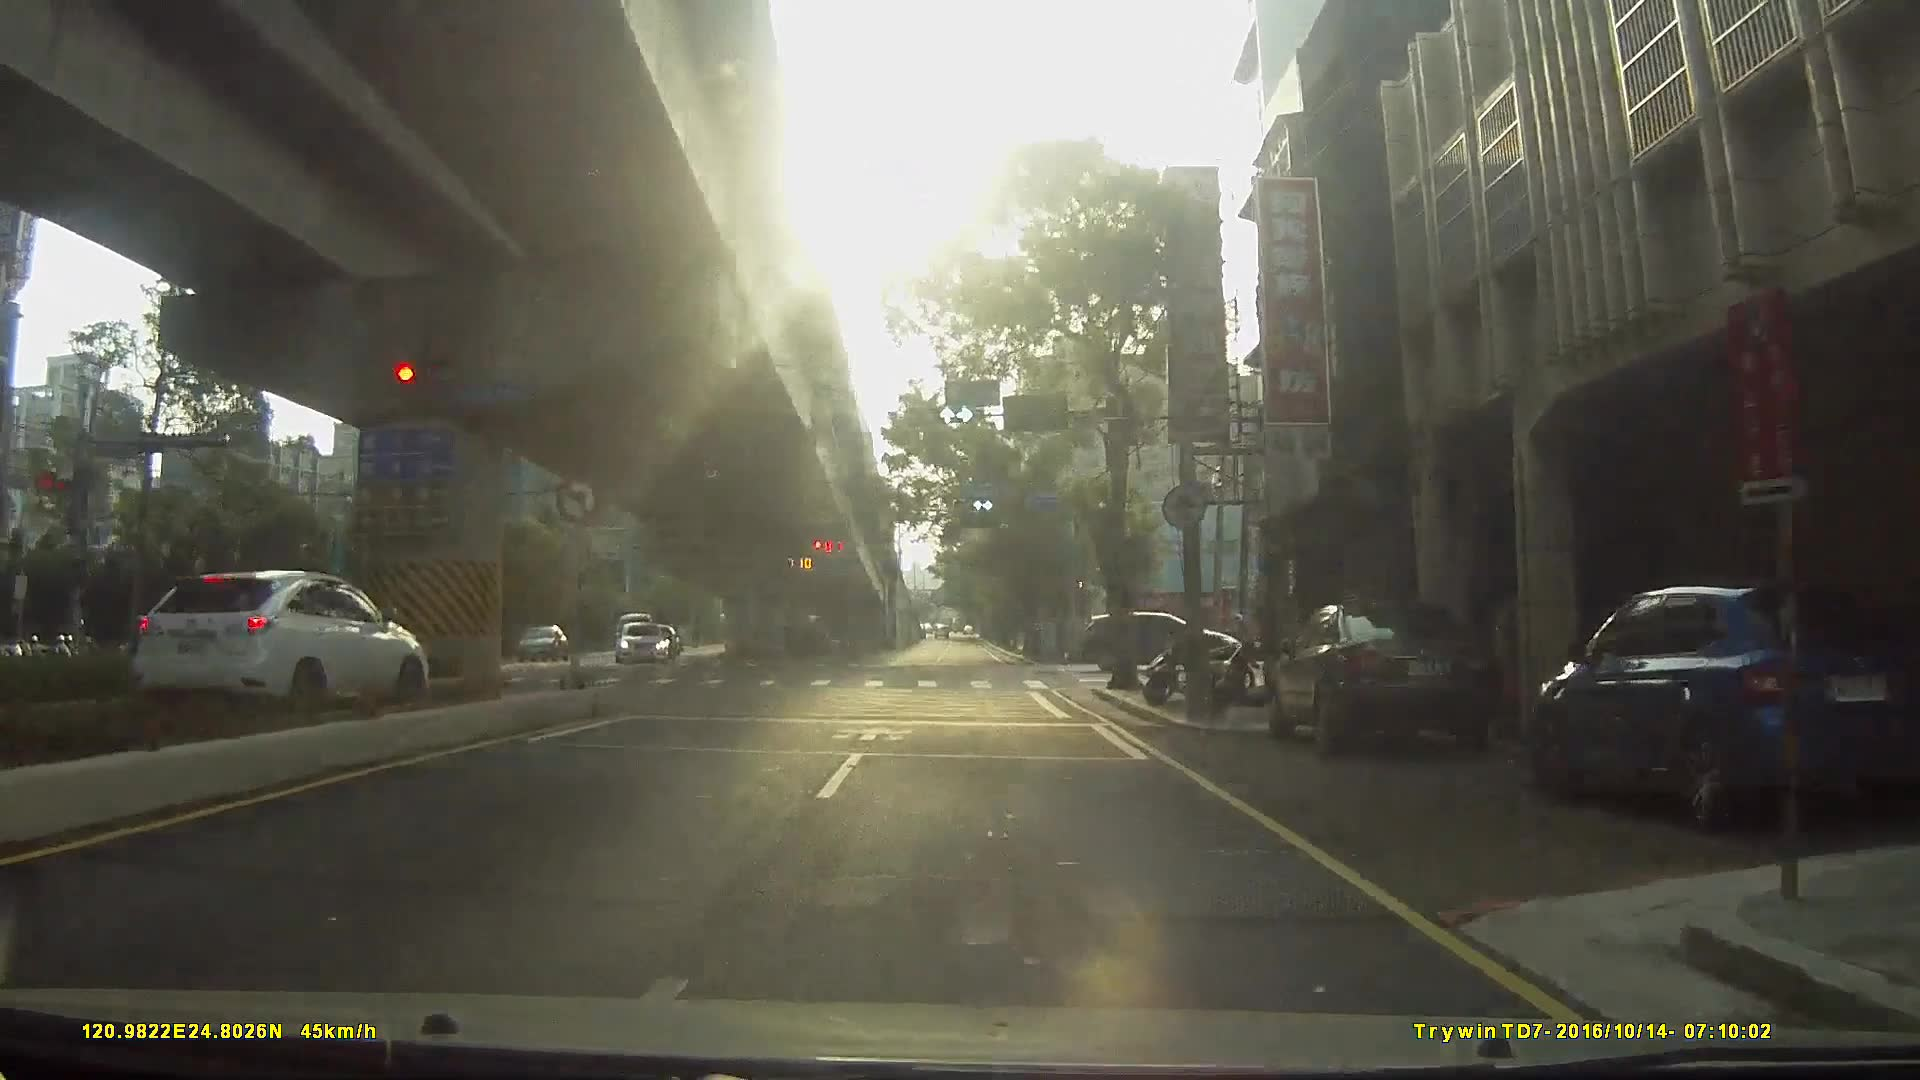vehicle: (1526, 576, 1920, 845), (135, 566, 426, 723), (1273, 600, 1510, 760), (1077, 611, 1250, 674), (615, 621, 665, 665), (512, 622, 563, 665)
